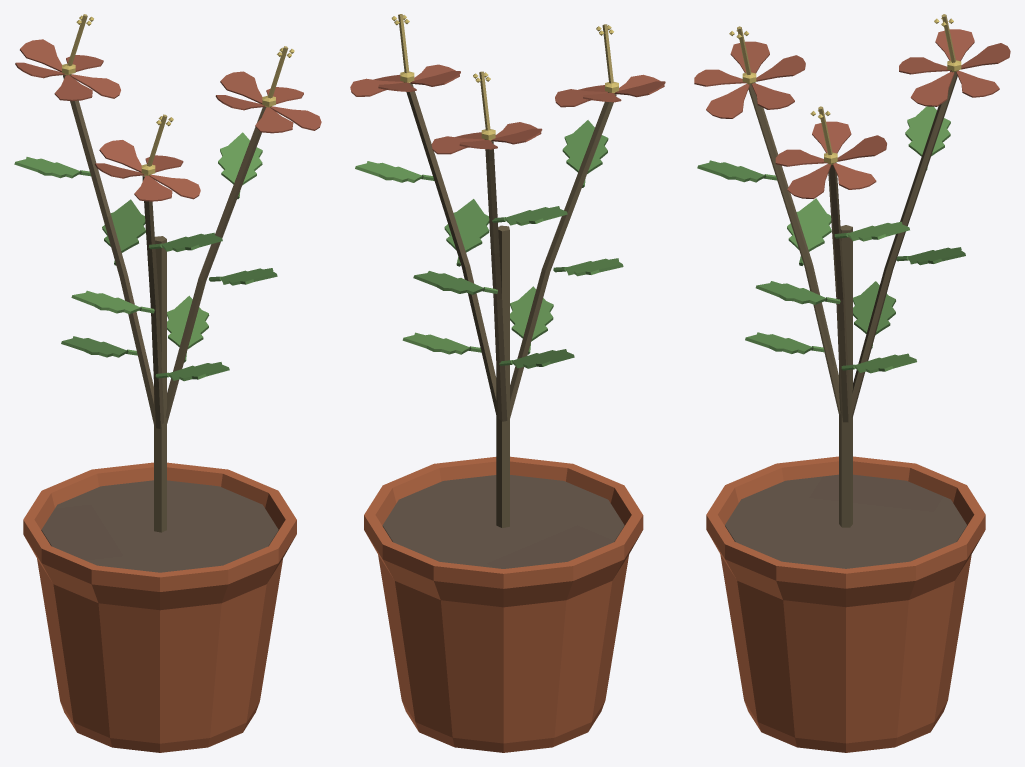
The model's file is hibiscus.glb.
3 renders of one model, left to right at view 1: azimuth 30°, elevation 25°; view 2: azimuth 150°, elevation 25°; view 3: azimuth 270°, elevation 25°, orthographic. The views are drawn at different scales.
Visible parts, largest first — view 1: hibiscus/review-terra-vessel, hibiscus/review-rooted-soil, hibiscus/stem-021, hibiscus/petiole-001, hibiscus/stem-002, hibiscus/stem-040, hibiscus/leaf-025, hibiscus/leaf-008, hibiscus/leaf-004, hibiscus/leaf-044, hibiscus/petal-051, hibiscus/petal-013 (+12 smaller); view 2: hibiscus/review-terra-vessel, hibiscus/review-rooted-soil, hibiscus/petiole-001, hibiscus/stem-040, hibiscus/stem-002, hibiscus/stem-021, hibiscus/leaf-006, hibiscus/leaf-046, hibiscus/leaf-042, hibiscus/leaf-025, hibiscus/leaf-008, hibiscus/leaf-004 (+6 smaller); view 3: hibiscus/review-terra-vessel, hibiscus/review-rooted-soil, hibiscus/stem-021, hibiscus/petiole-001, hibiscus/stem-040, hibiscus/stem-002, hibiscus/leaf-044, hibiscus/leaf-027, hibiscus/leaf-023, hibiscus/petal-030, hibiscus/petal-011, hibiscus/petal-049 (+18 smaller).
Boxes of the visible parts, <box> form: hibiscus/review-terra-vessel: <box>23,462,296,752</box>; hibiscus/review-rooted-soil: <box>41,480,278,572</box>; hibiscus/stem-021: <box>63,74,153,423</box>; hibiscus/petiole-001: <box>154,236,166,532</box>; hibiscus/stem-002: <box>165,106,266,423</box>; hibiscus/stem-040: <box>142,175,163,428</box>; hibiscus/leaf-025: <box>102,199,145,252</box>; hibiscus/leaf-008: <box>218,132,262,185</box>; hibiscus/leaf-004: <box>167,295,209,348</box>; hibiscus/leaf-044: <box>71,290,140,314</box>; hibiscus/petal-051: <box>99,140,141,172</box>; hibiscus/petal-013: <box>220,71,262,103</box>; hibiscus/review-terra-vessel: <box>364,456,643,752</box>; hibiscus/review-rooted-soil: <box>382,475,624,568</box>; hibiscus/petiole-001: <box>496,225,509,527</box>; hibiscus/stem-040: <box>510,92,616,417</box>; hibiscus/stem-002: <box>406,83,496,414</box>; hibiscus/stem-021: <box>485,141,507,421</box>; hibiscus/leaf-006: <box>444,199,489,252</box>; hibiscus/leaf-046: <box>562,120,608,173</box>; hibiscus/leaf-042: <box>510,286,553,341</box>; hibiscus/leaf-025: <box>413,271,483,294</box>; hibiscus/leaf-008: <box>355,161,422,182</box>; hibiscus/leaf-004: <box>402,332,470,354</box>; hibiscus/review-terra-vessel: <box>706,456,985,752</box>; hibiscus/review-rooted-soil: <box>725,474,966,568</box>; hibiscus/stem-021: <box>851,70,957,417</box>; hibiscus/petiole-001: <box>839,225,852,527</box>; hibiscus/stem-040: <box>748,82,840,414</box>; hibiscus/stem-002: <box>827,162,849,422</box>; hibiscus/leaf-044: <box>787,198,831,251</box>; hibiscus/leaf-027: <box>905,106,950,156</box>; hibiscus/leaf-023: <box>853,281,895,334</box>; hibiscus/petal-030: <box>910,71,954,106</box>; hibiscus/petal-011: <box>787,163,831,199</box>; hibiscus/petal-049: <box>706,83,749,118</box>.
Bounding box in the file's own units: 0.301 × 0.7286 × 0.3056.
Materials: 8 (8 with a texture image).
